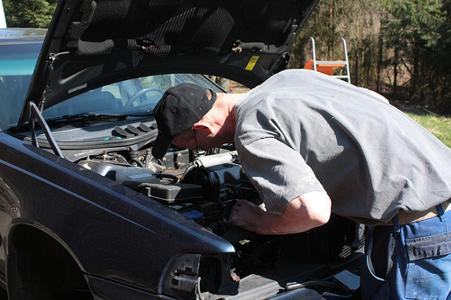person: (150, 68, 450, 300)
